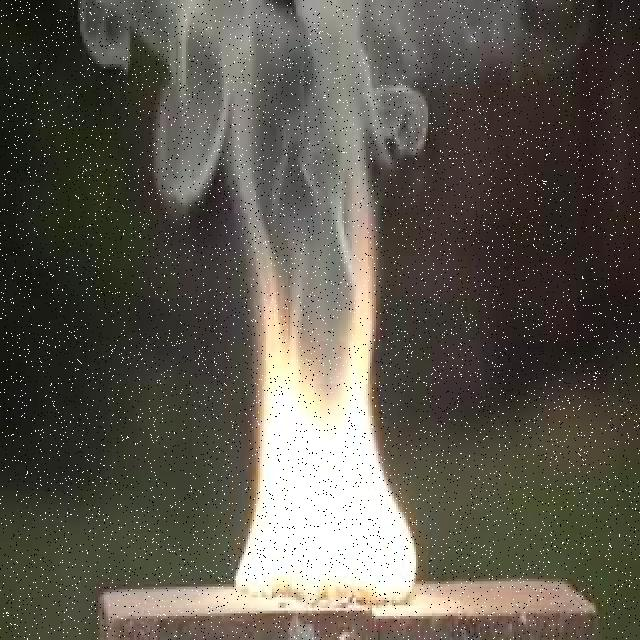fire: (235, 320, 424, 607)
smoke: (110, 5, 507, 292)
